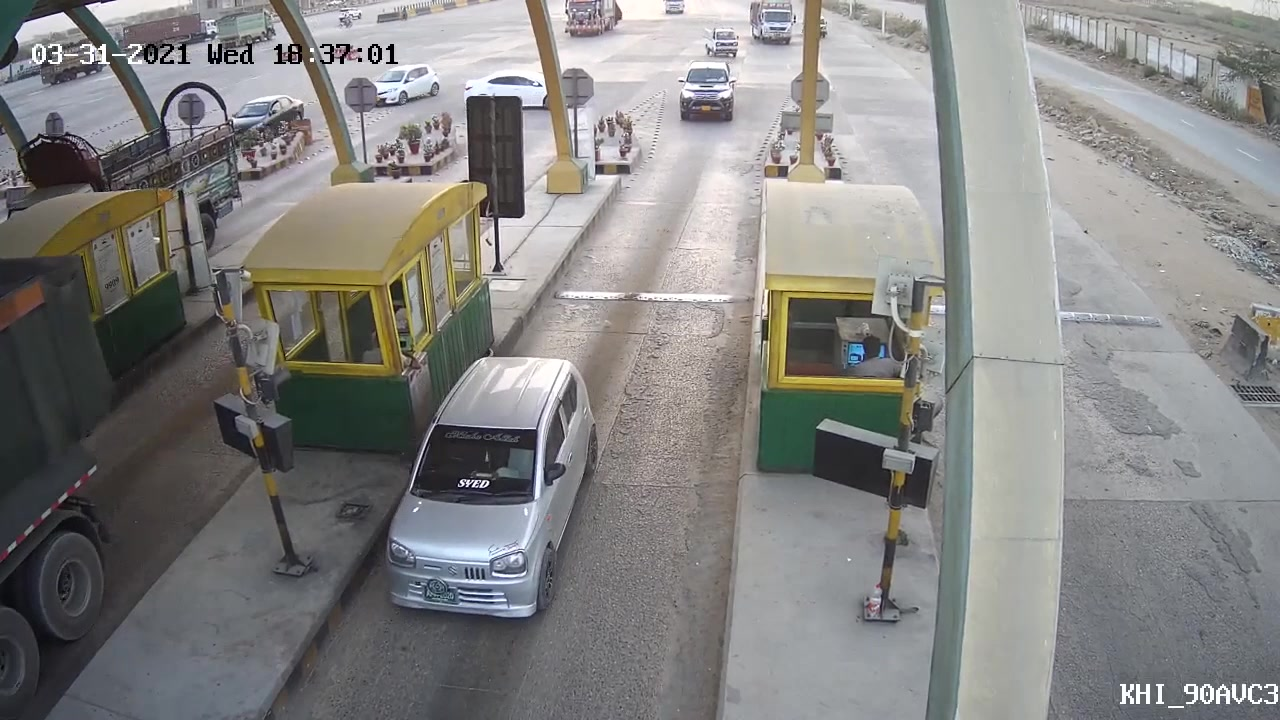F1: (385, 350, 610, 629)
